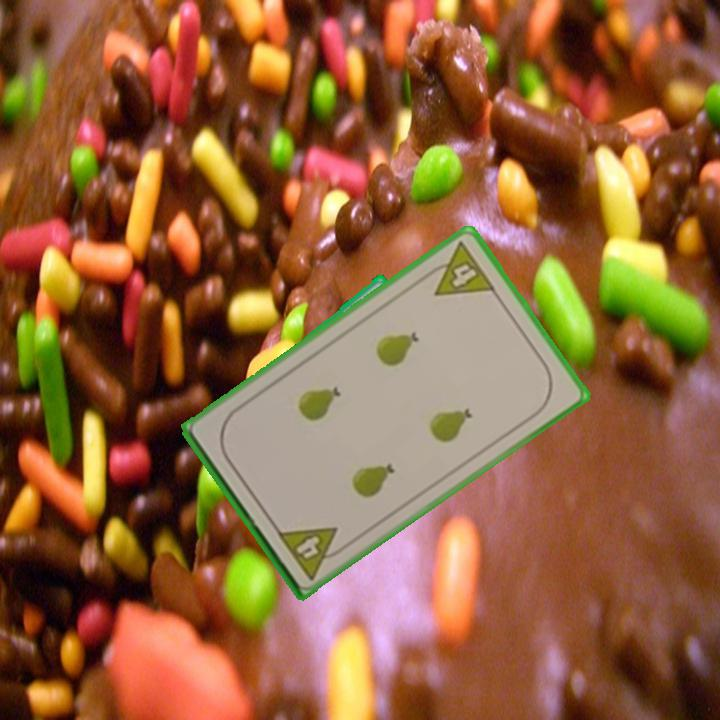4p: (419, 238, 499, 299), (273, 522, 350, 583)
